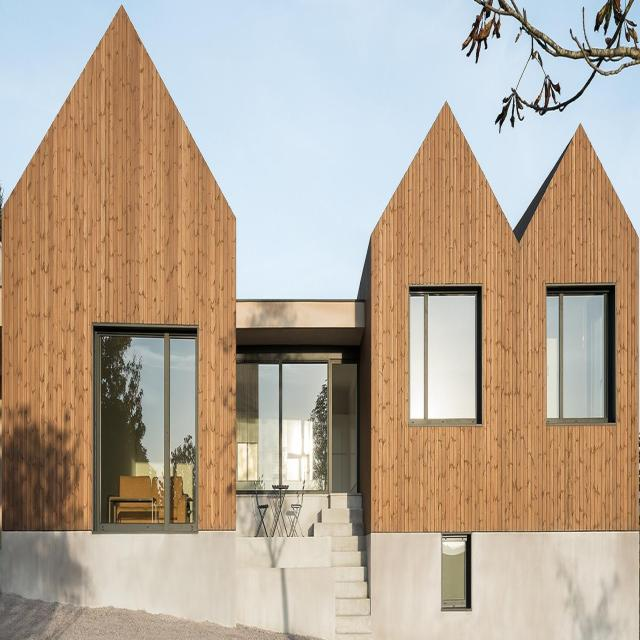door: (328, 356, 359, 497)
window: (99, 332, 200, 528), (236, 351, 359, 497), (409, 291, 480, 423), (547, 290, 610, 409), (443, 538, 467, 610)
